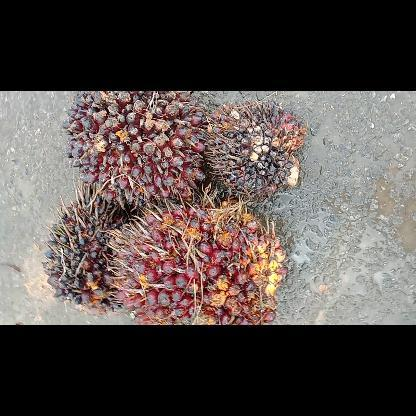Kurang masak: (64, 90, 206, 200)
TBS abnormal: (208, 100, 306, 198), (47, 189, 121, 311)
TBS masak: (112, 202, 286, 324)
